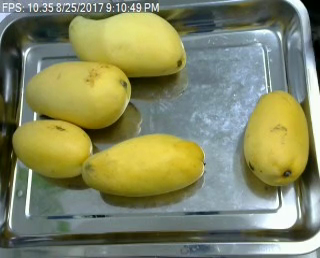Mango: (67, 10, 185, 77), (82, 134, 206, 197), (22, 57, 130, 129), (241, 89, 311, 188), (12, 118, 95, 179)
